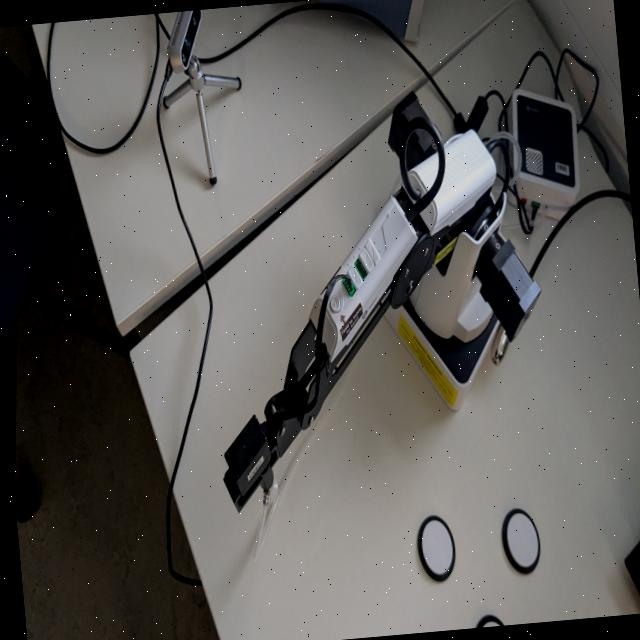Robot-end-effector-HF8z: (214, 409, 284, 524)
